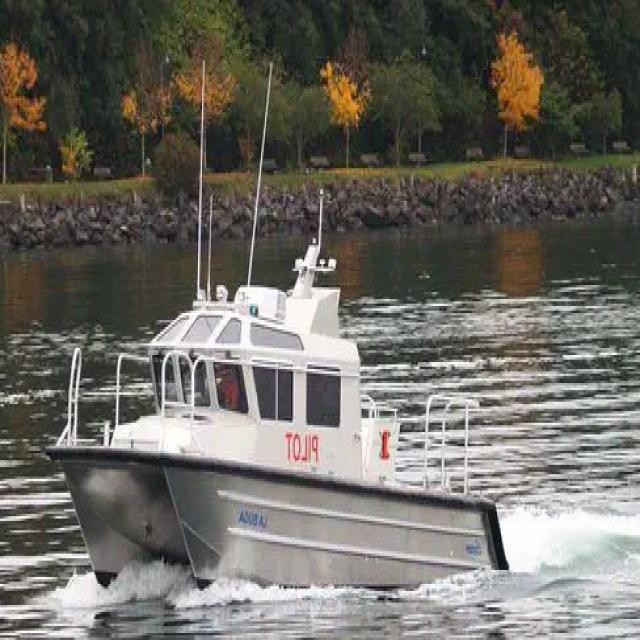houseboat: (53, 229, 504, 609)
